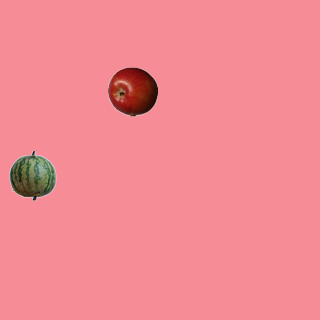Apple Braeburn: (107, 66, 157, 116)
Watermelon: (7, 150, 57, 200)
